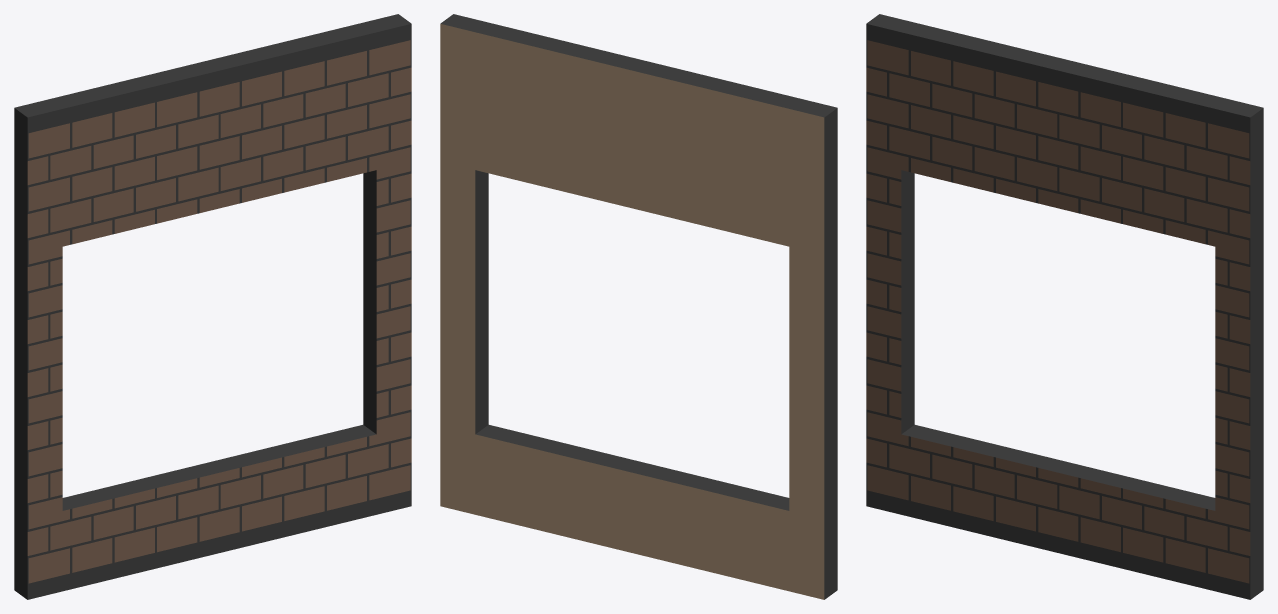
Rendered from Wall3_C10_05.fbx.
3 renders of one model, left to right at view 1: azimuth 30°, elevation 25°; view 2: azimuth 150°, elevation 25°; view 3: azimuth 330°, elevation 25°, orthographic.
Visible parts, largest first — view 1: Wall3_C10_05; view 2: Wall3_C10_05; view 3: Wall3_C10_05.
Boxes of the visible parts, x1,y1,x2,y2 form: Wall3_C10_05: [14, 14, 411, 599]; Wall3_C10_05: [440, 14, 837, 599]; Wall3_C10_05: [866, 14, 1263, 599].
Bounding box in the file's own units: 250 × 300 × 15.
